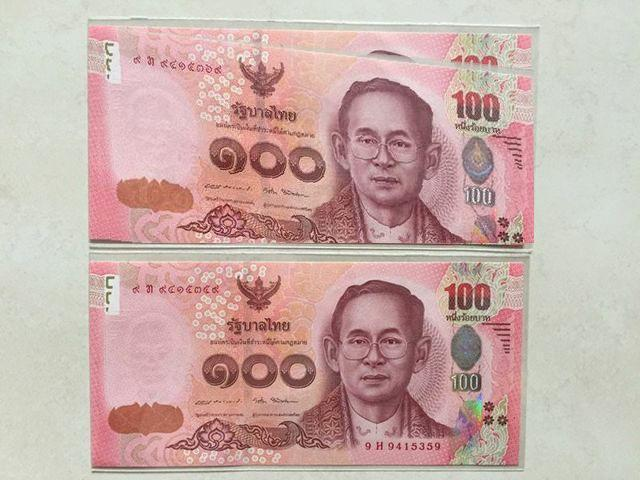100BahtTai: (92, 26, 535, 243)
